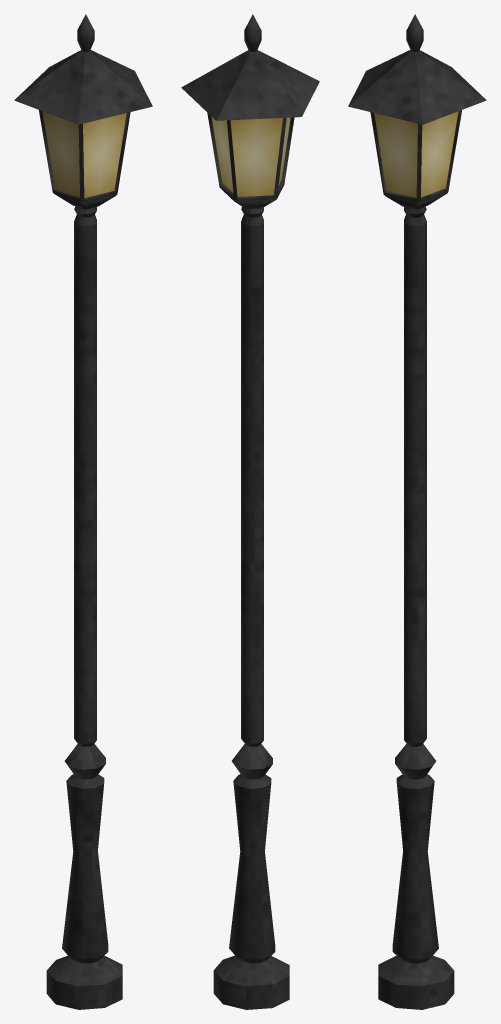
File: MS_Streetlamp.fbx
3 views of the same model, side by side, from view 1: azimuth 30°, elevation 25°; view 2: azimuth 150°, elevation 25°; view 3: azimuth 330°, elevation 25° (orthographic).
Parts seen in each view (by area): view 1: MSH_Lamp_Street_Glass; view 2: MSH_Lamp_Street_Glass; view 3: MSH_Lamp_Street_Glass.
Boxes of the visible parts, x1,y1,x2,y2 form: MSH_Lamp_Street_Glass: (14, 14, 152, 1009); MSH_Lamp_Street_Glass: (181, 14, 319, 1009); MSH_Lamp_Street_Glass: (348, 14, 486, 1009).
Bounding box in the file's own units: 36.14 × 280 × 34.37.
